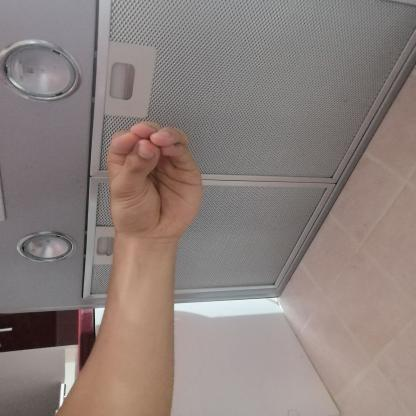HA: (93, 111, 216, 251)
